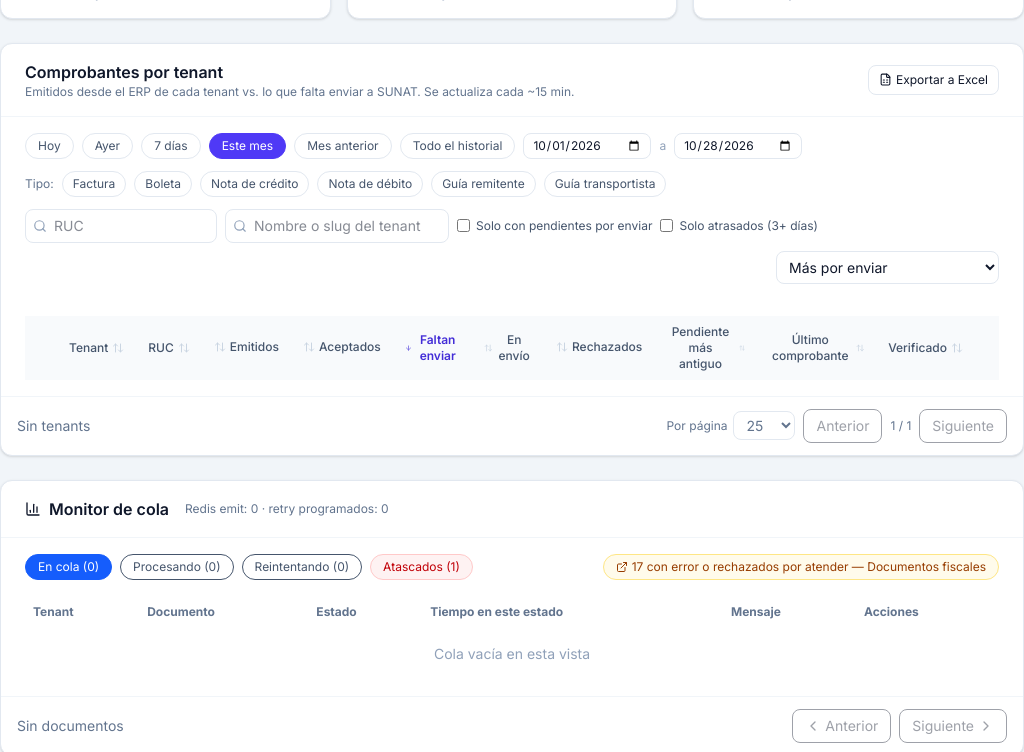
Scenario: OperacionesFiscalesPage — Fase 4 › Matriz E: manual_only no presenta "Reprocesar" y explica que requiere acción administrativa
The image size is (1024, 752).
(page scrolled)
Expected: the text "Monitor de cola" is shown, [49,496,169,520]
Click the button "Atascados (1)".
click(422, 566)  # box [370,554,473,580]
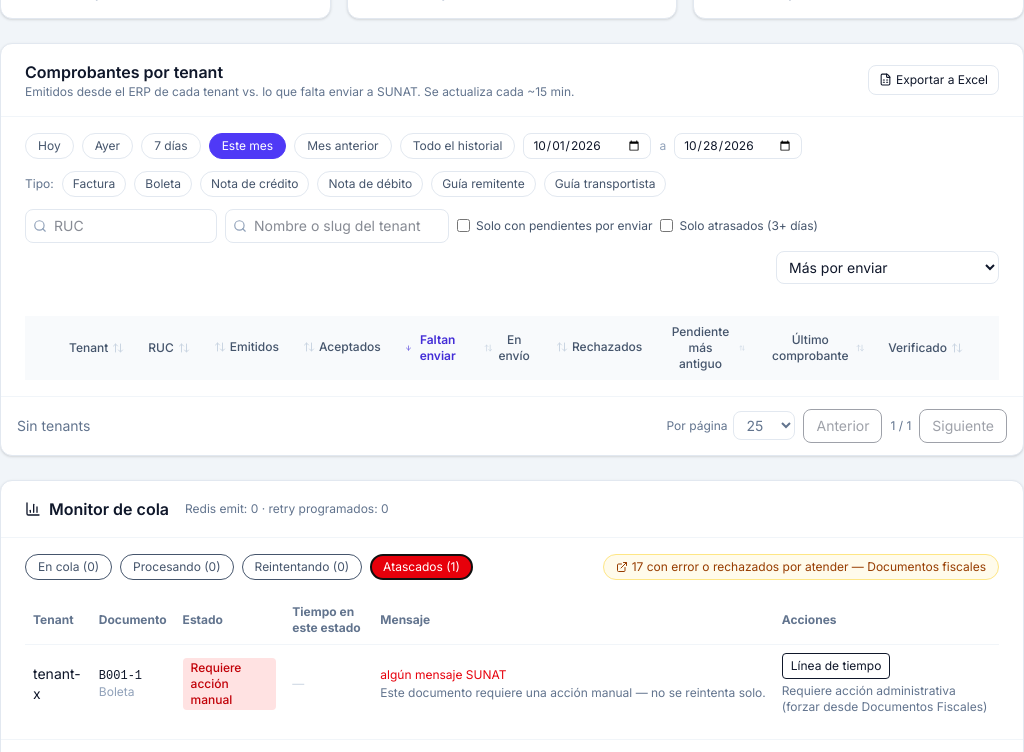
Expected: the text "tenant-x" is shown, [25,644,91,722]
Expected: the text "Requiere acción manual" is shown, [183,658,276,710]
Expected: the text "Requiere acción administrativa" is shown, [782,682,987,714]
